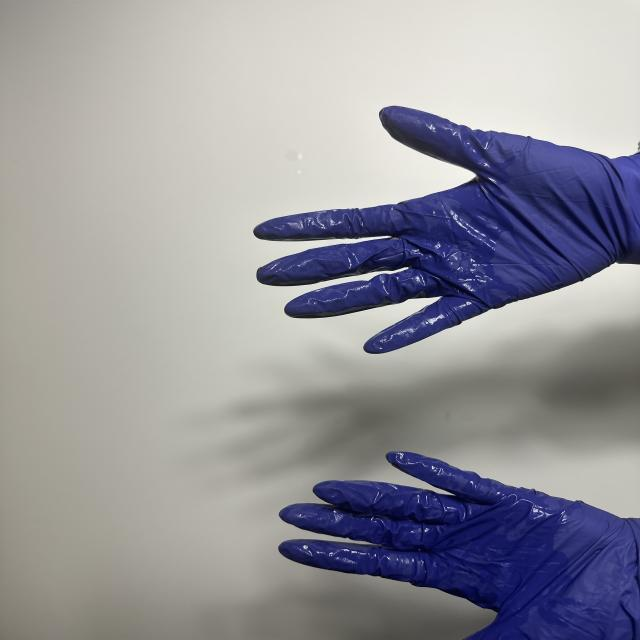gloves_contaminated: (254, 106, 640, 354), (279, 452, 640, 640)
